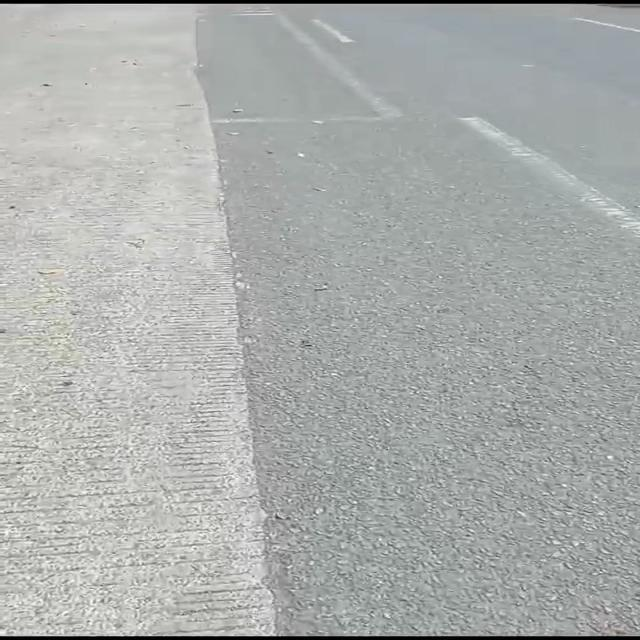Sambungan: (0, 0, 277, 640)
